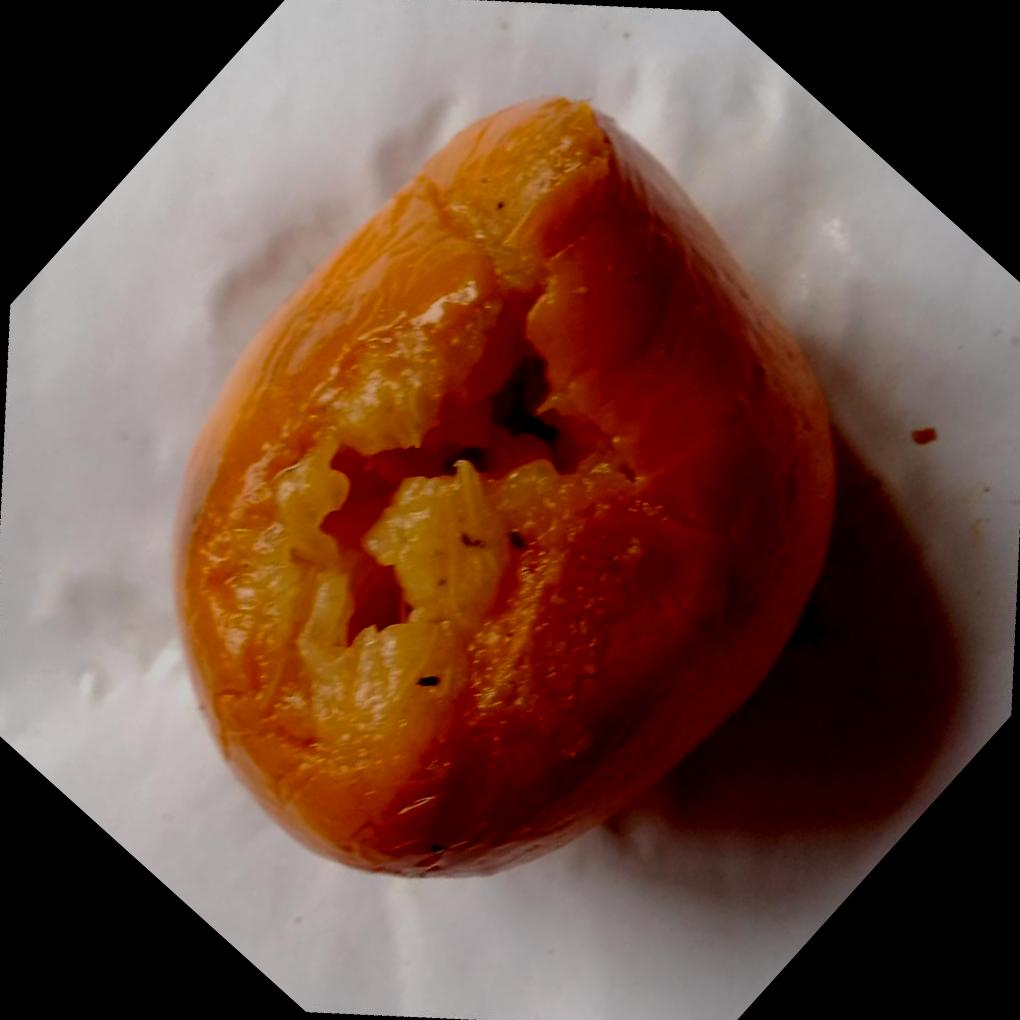FreshOrange: (174, 90, 838, 878)
